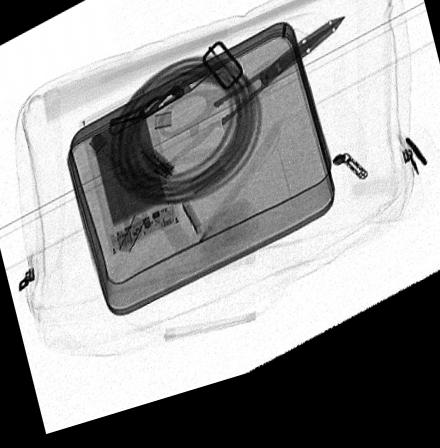Knife: (108, 67, 234, 143)
Powerbank: (79, 94, 181, 260)
Scissors: (156, 35, 347, 187)
